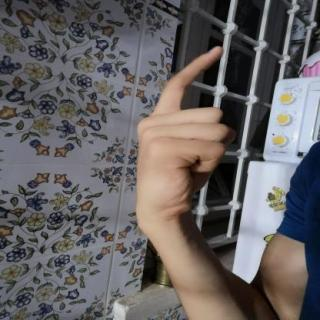RAA: (121, 37, 247, 229)
